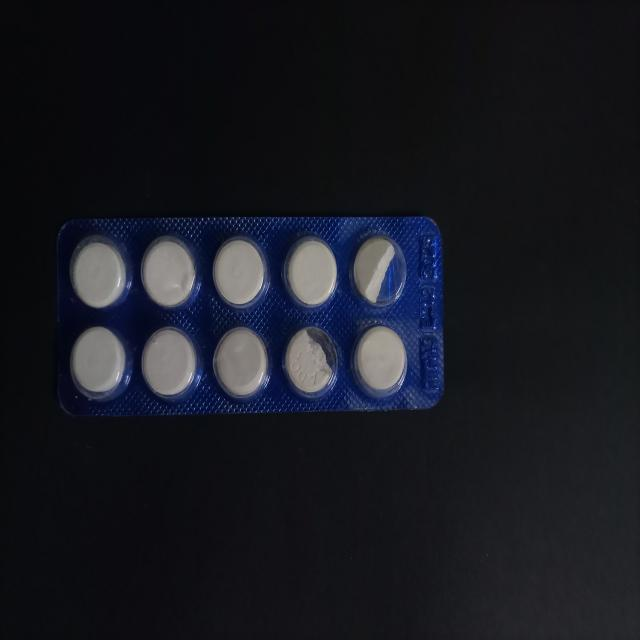defect: (280, 319, 344, 403), (348, 228, 409, 312)
